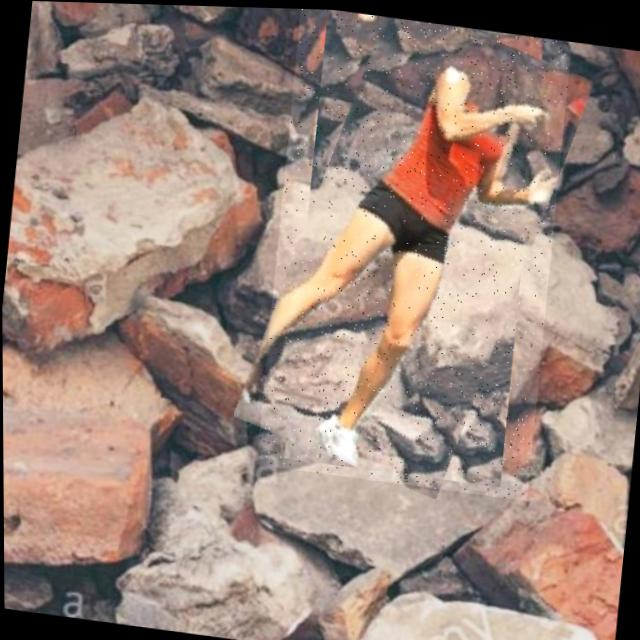Person in Rubble: (252, 6, 574, 498)
